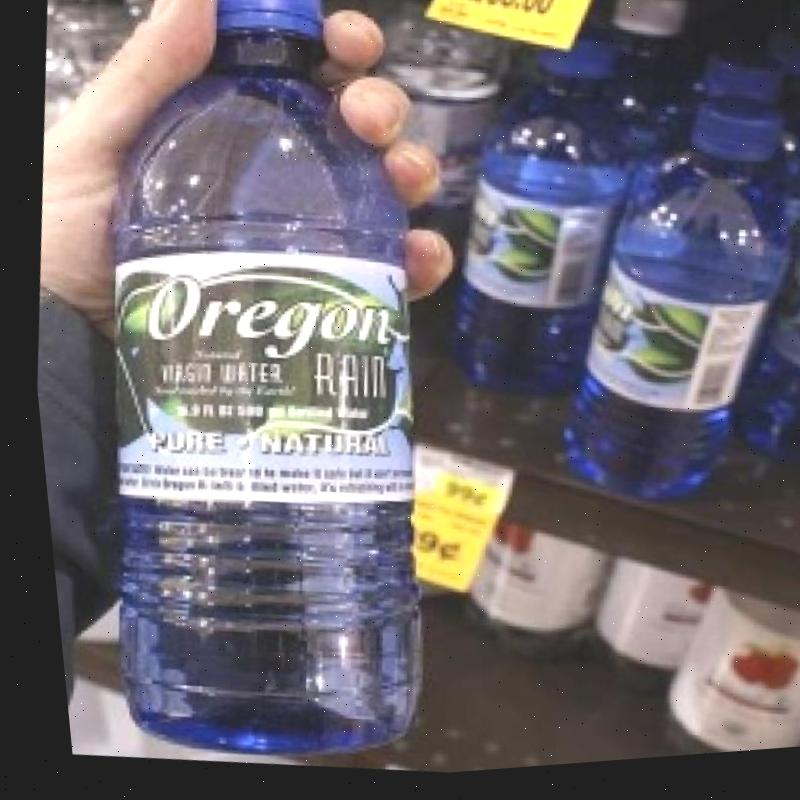botella: (21, 0, 504, 789), (524, 89, 800, 533), (420, 31, 666, 430), (340, 0, 519, 259), (703, 147, 800, 483), (37, 0, 142, 80)
